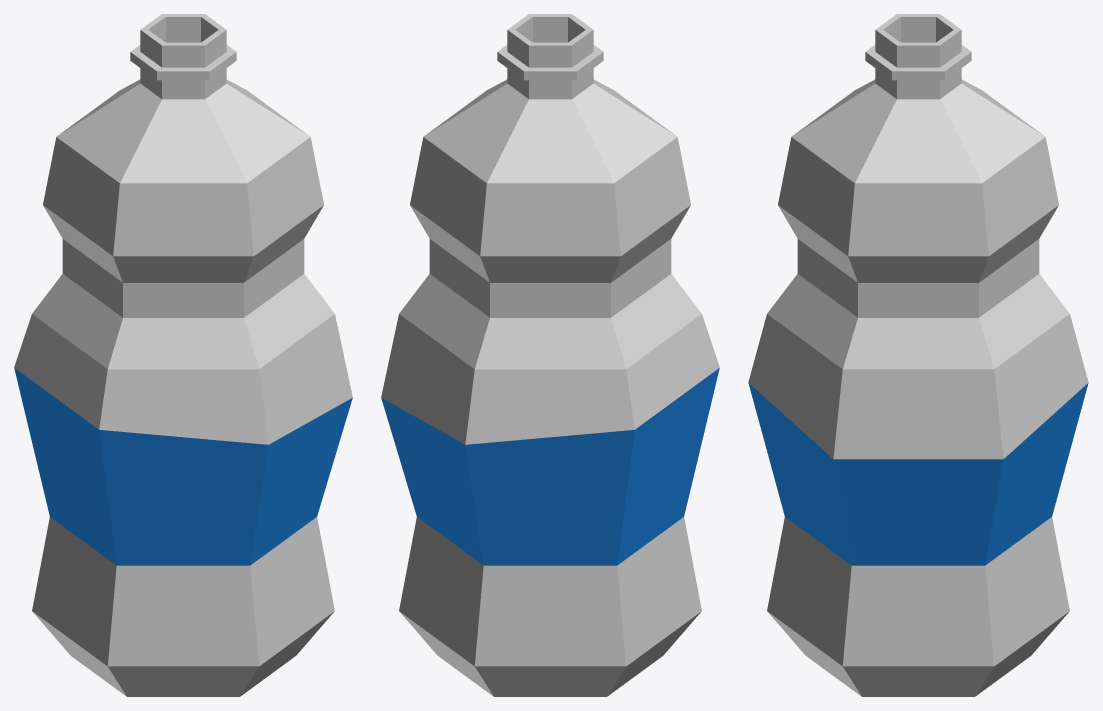
The model's file is Water bottle bend.fbx.
The picture shows the model from 3 angles, left to right: view 1: azimuth 30°, elevation 25°; view 2: azimuth 150°, elevation 25°; view 3: azimuth 270°, elevation 25°; orthographic projection.
Parts seen in each view (by area): view 1: Bottle.001; view 2: Bottle.001; view 3: Bottle.001.
Part boxes in pixels (left/top/right/bottom): Bottle.001: left=14, top=14, right=352, bottom=696; Bottle.001: left=381, top=14, right=719, bottom=696; Bottle.001: left=748, top=14, right=1088, bottom=696.
Size of the model in its own units: 9.92 by 23.4 by 11.53.
